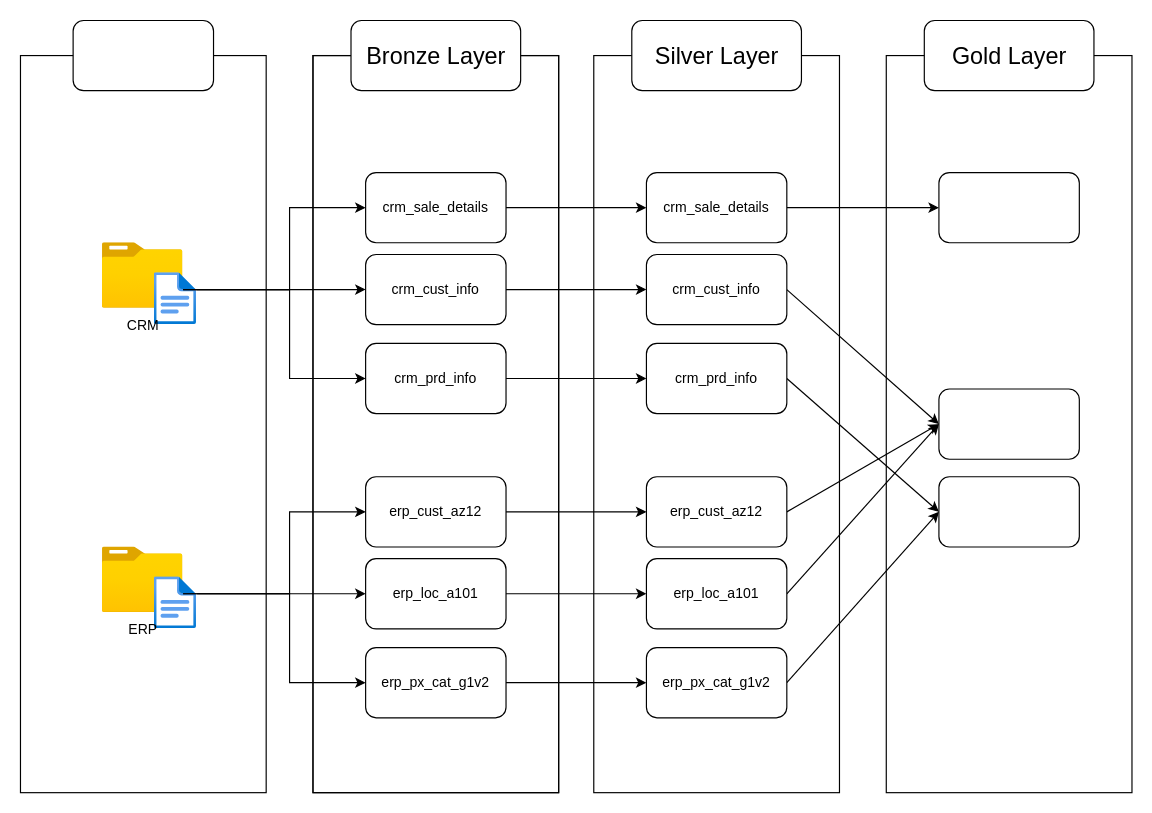
Image size: 1152x813. Some labels were removed from this diagram. The shapes that lost their labels are listed below. From the top down, each one's box as (x1, y1, x2, y2) in pixels, then its label:
(72, 19, 214, 91): Sources
(938, 171, 1079, 243): fact_sales
(938, 388, 1079, 459): dim_customers
(938, 476, 1079, 547): dim_products
